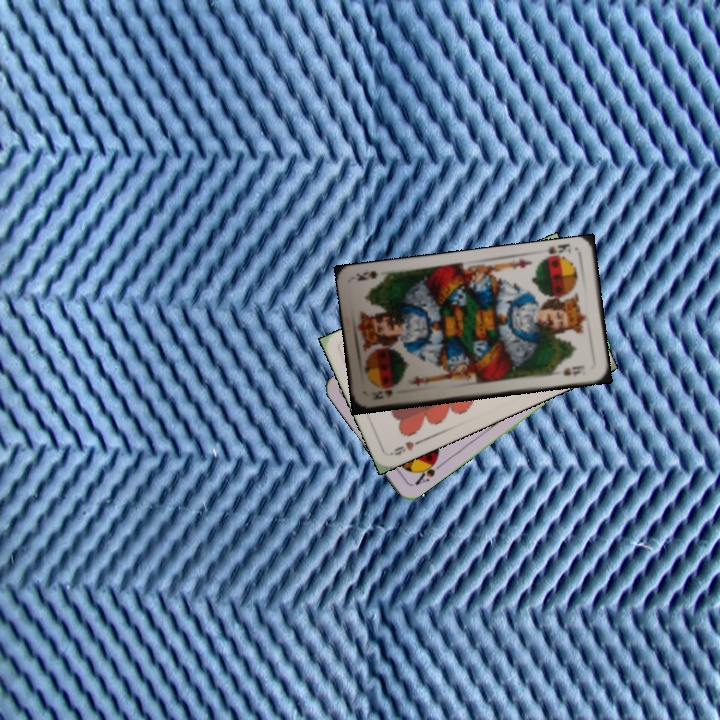H9: (387, 435, 425, 458)
SA: (411, 454, 445, 488)
SK: (544, 241, 573, 257), (369, 385, 395, 402)
